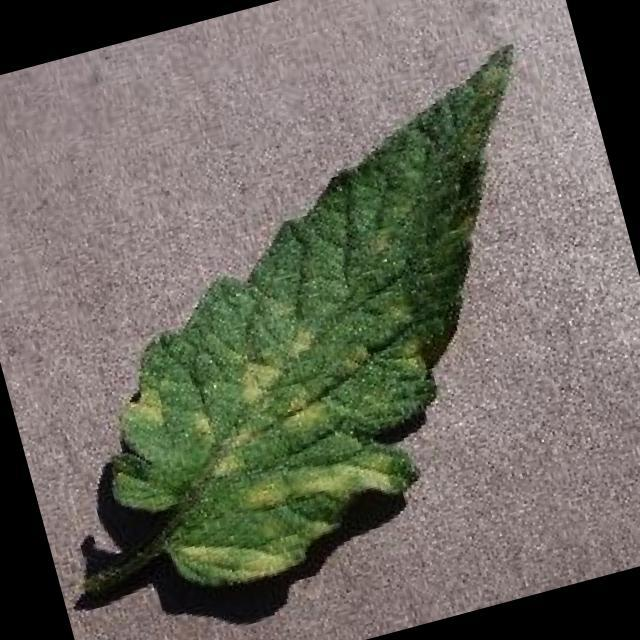Tomato mold leaf: (29, 42, 632, 608)
